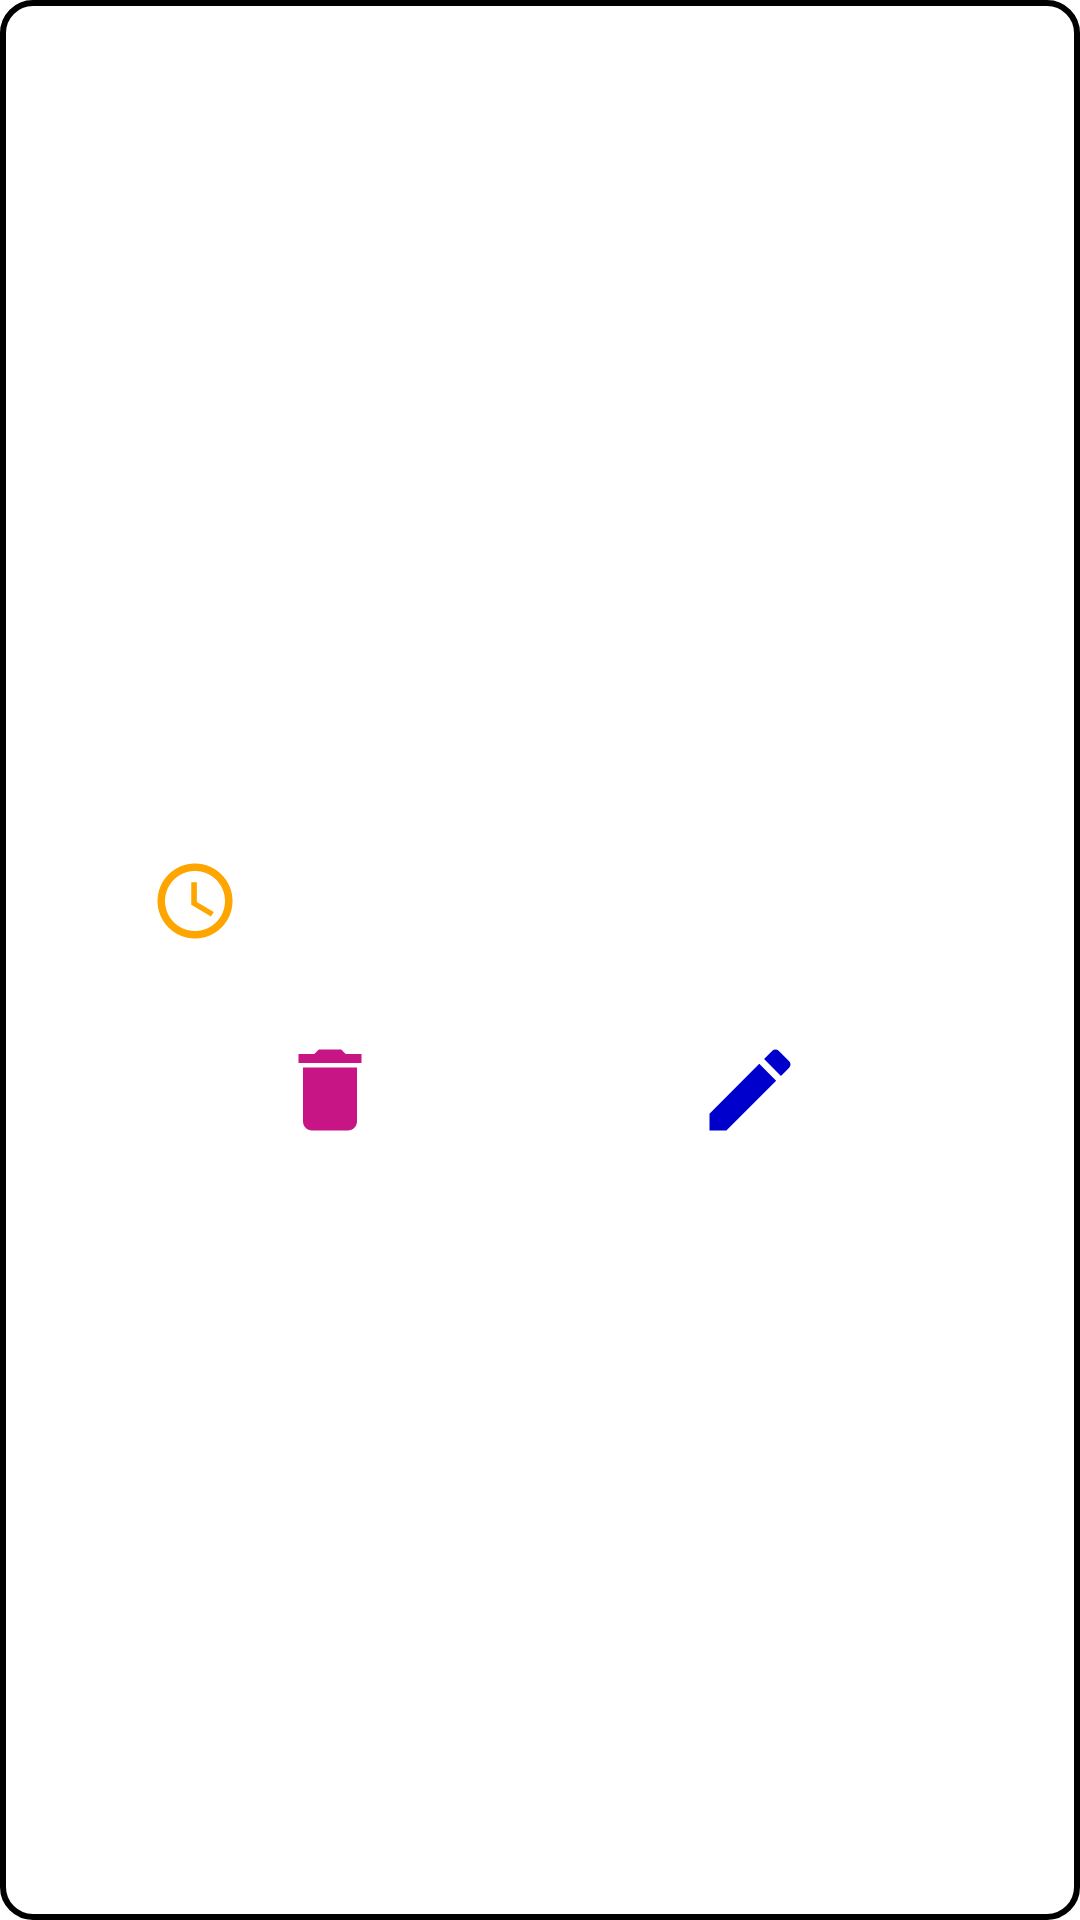

Where to tap for icons on this 1080w x 1920h app screen, as (x,y):
create: (750,1090)
delete: (330,1090)
